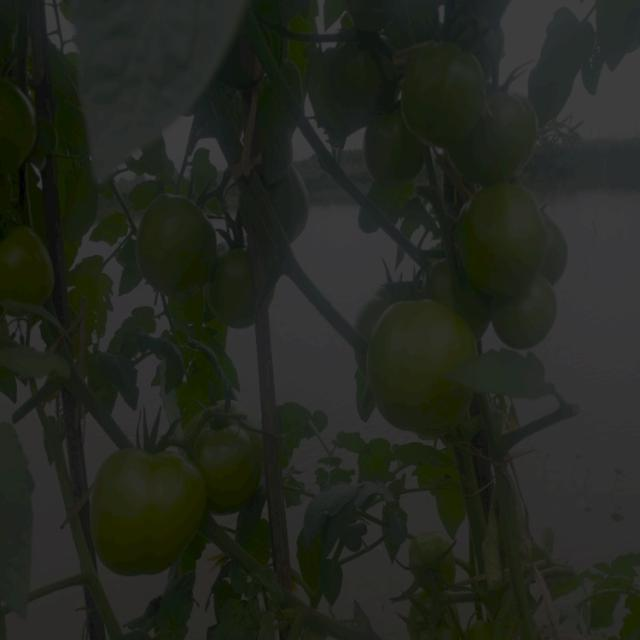tomato: (86, 437, 195, 567), (366, 292, 464, 429), (460, 183, 545, 297), (402, 49, 478, 148), (131, 201, 219, 281), (462, 92, 543, 172), (201, 246, 265, 329), (196, 420, 251, 508), (481, 287, 558, 348), (1, 69, 43, 175), (8, 232, 54, 304), (407, 533, 455, 593), (539, 217, 572, 284), (407, 595, 455, 640)
